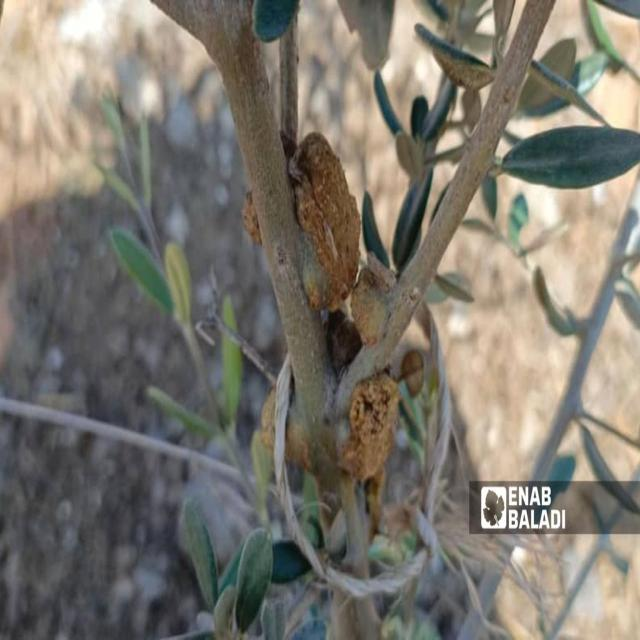Tuberculosis: (290, 132, 360, 310), (340, 372, 398, 528)
